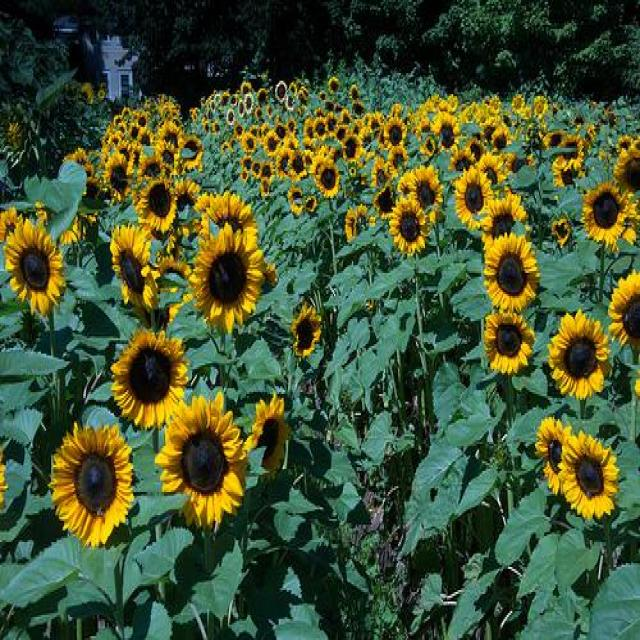sunflower: (154, 389, 245, 528), (46, 422, 134, 548), (194, 227, 266, 327), (111, 332, 187, 426), (4, 218, 66, 314), (547, 309, 609, 402), (561, 433, 618, 526), (479, 232, 541, 312), (108, 224, 160, 318), (482, 304, 534, 378), (244, 393, 292, 472), (580, 181, 628, 248), (536, 417, 576, 491), (606, 269, 640, 347), (454, 164, 494, 227), (155, 257, 200, 307), (390, 198, 429, 255), (138, 178, 180, 230), (200, 192, 256, 228), (483, 194, 528, 236), (411, 164, 444, 214), (292, 303, 320, 358), (433, 108, 459, 156), (105, 153, 132, 199), (613, 146, 640, 190), (133, 304, 174, 329), (552, 157, 585, 185), (314, 160, 336, 196), (559, 134, 584, 164), (181, 138, 204, 170), (479, 154, 504, 182), (174, 177, 198, 206), (383, 119, 405, 150), (374, 183, 394, 216), (136, 152, 160, 179), (157, 140, 179, 168), (505, 153, 533, 175), (449, 147, 476, 169), (343, 134, 364, 162), (286, 187, 306, 215), (550, 218, 570, 246), (0, 207, 16, 239), (288, 150, 305, 180), (275, 150, 293, 178), (387, 148, 406, 174), (491, 126, 510, 152), (371, 158, 389, 184), (398, 168, 414, 196), (157, 122, 182, 138), (86, 177, 103, 200), (118, 140, 133, 164), (264, 130, 279, 154), (346, 208, 356, 239), (243, 131, 255, 154), (542, 132, 560, 147), (315, 118, 327, 140), (304, 150, 315, 173), (469, 140, 483, 158), (534, 96, 547, 115), (160, 163, 176, 178), (357, 204, 367, 228), (138, 130, 154, 144), (131, 143, 141, 163), (304, 119, 314, 139), (425, 138, 436, 156), (284, 136, 298, 150), (253, 160, 263, 178), (130, 124, 140, 141), (138, 113, 148, 130), (109, 134, 121, 148), (277, 124, 286, 139), (241, 157, 252, 169), (262, 164, 272, 177), (260, 180, 270, 193), (240, 168, 249, 181), (118, 122, 126, 134)
